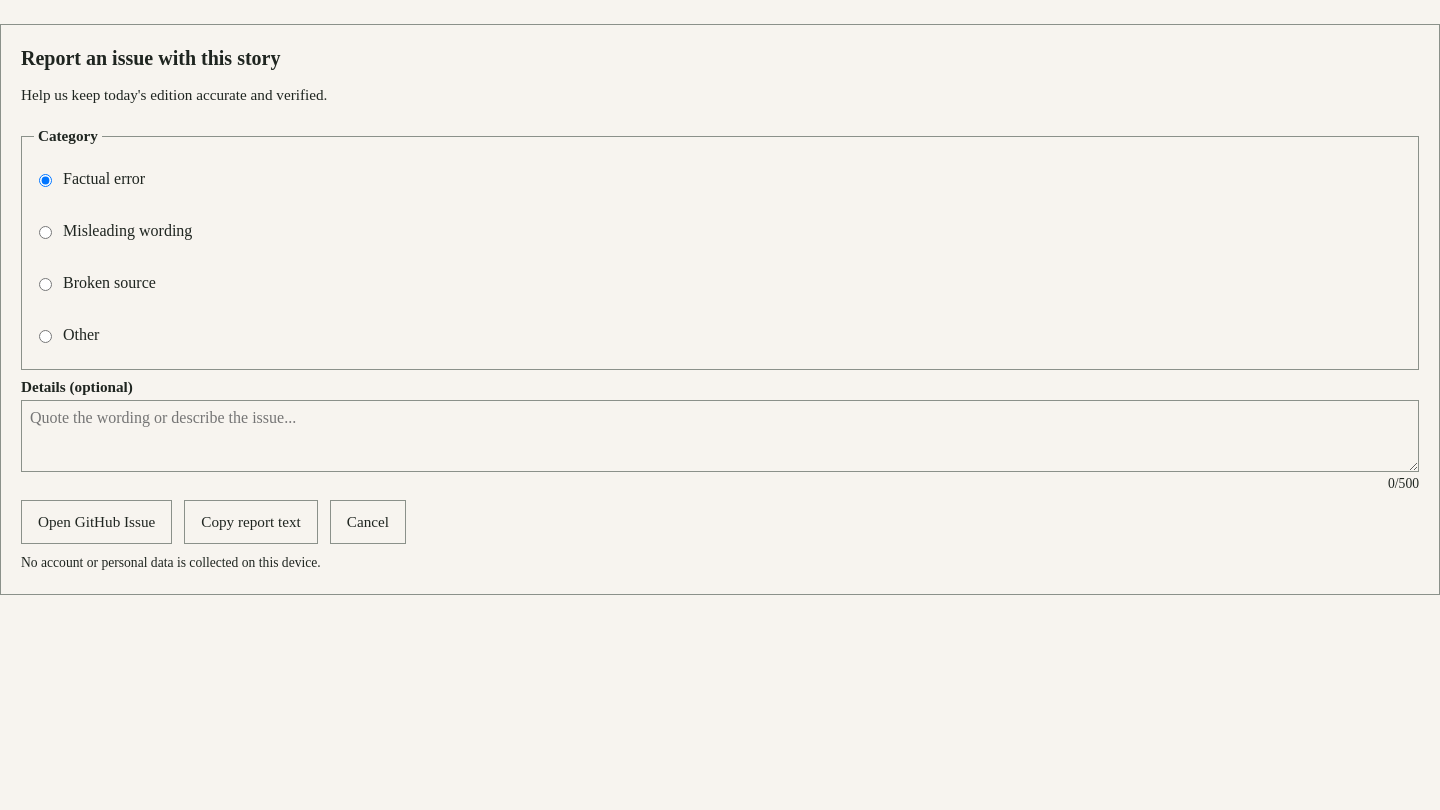
Test: StoryFeedbackDialog (AB-801) › copies report text to clipboard and displays success message
Step 1. Click the button "Copy report text" → (251, 522), box [184,500,318,544]
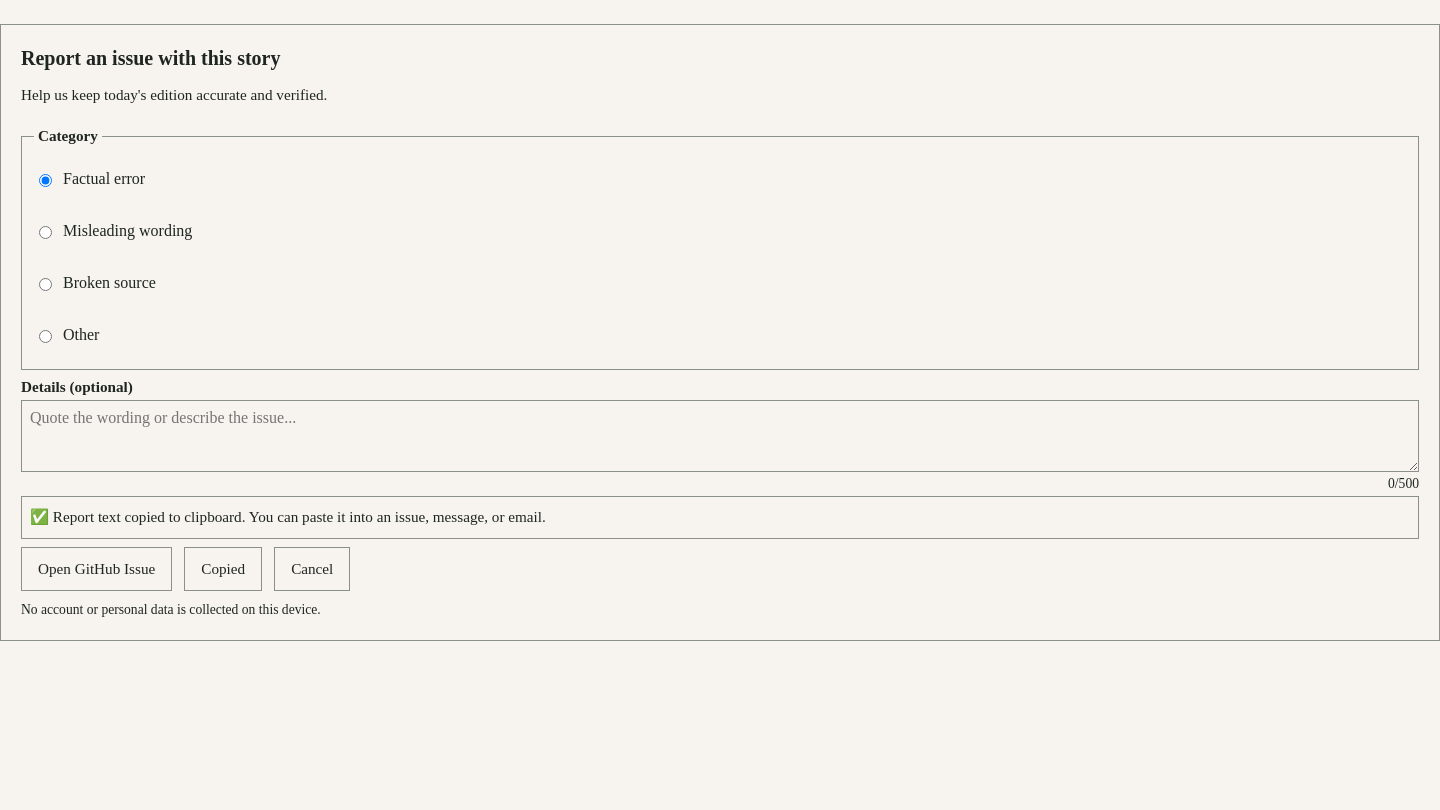
expect the text "Report text copied to clipboard" is shown: met, box [30,508,546,525]
